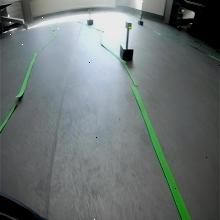green: (125, 20, 132, 30)
